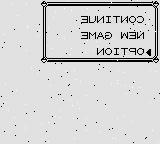seleccionado: (94, 46, 153, 58)
texto: (41, 1, 160, 63)
